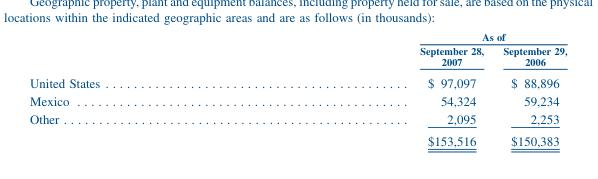table: (28, 29, 566, 148)
table column: (259, 29, 492, 148), (28, 29, 259, 148), (492, 29, 566, 148)
table column header: (28, 29, 566, 70)
table row: (28, 43, 566, 70), (28, 70, 566, 90), (28, 108, 566, 128), (28, 128, 566, 148), (28, 90, 566, 108), (28, 29, 566, 43)
table spanning cell: (259, 29, 566, 43)
